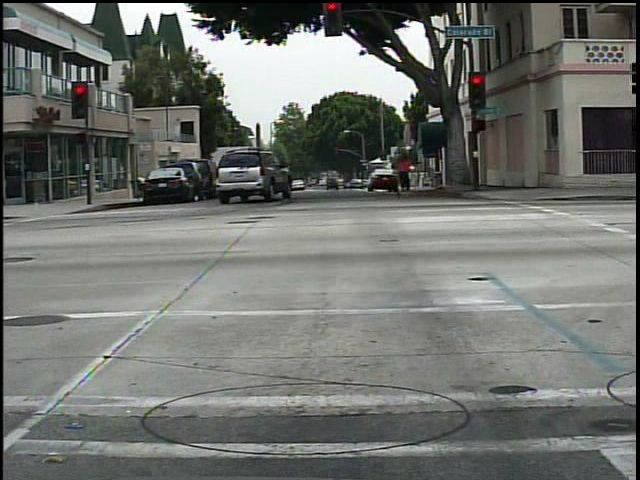person: (390, 150, 419, 199)
